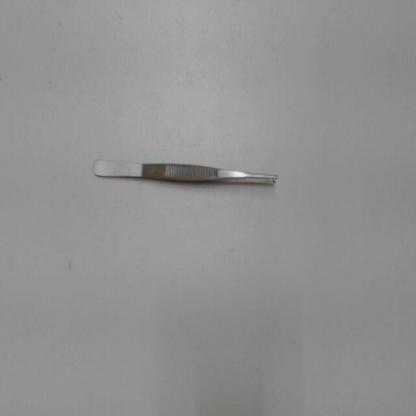Gillies Toothed Dissector: (88, 146, 287, 193)
